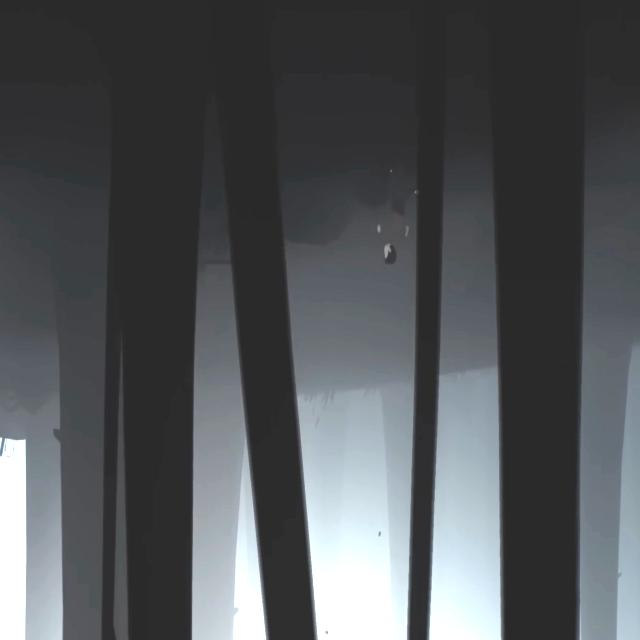boy: (377, 164, 417, 265)
